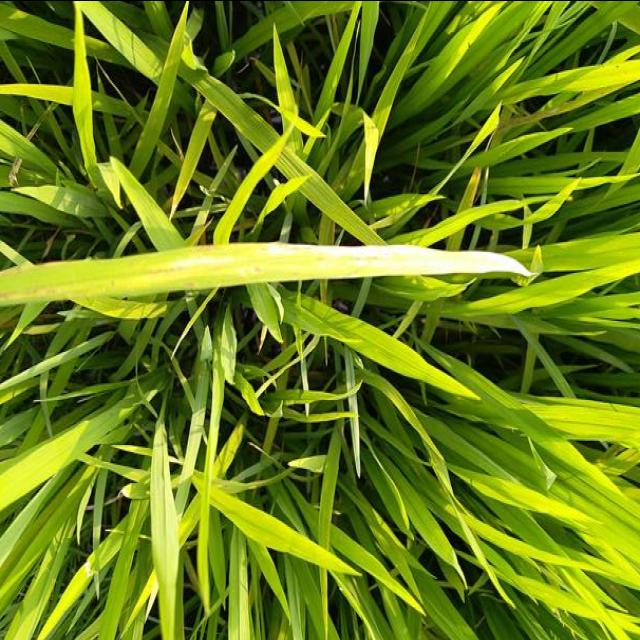Leaf Blight: (247, 244, 526, 279), (0, 258, 195, 294)
